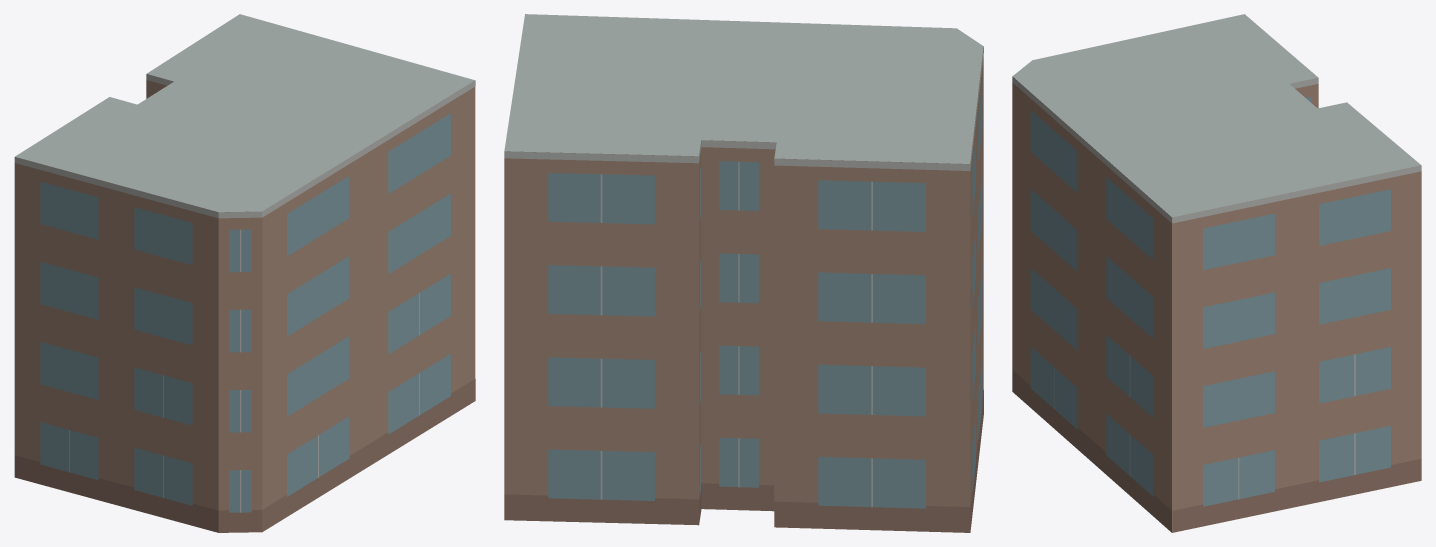
Rendered from survey-upis-32937925.glb.
3 views of the same model, side by side, from view 1: azimuth 30°, elevation 25°; view 2: azimuth 150°, elevation 25°; view 3: azimuth 270°, elevation 25° (orthographic). The views are drawn at different scales.
Parts seen in each view (by area): view 1: survey-upis-32937925.tmp; view 2: survey-upis-32937925.tmp; view 3: survey-upis-32937925.tmp.
Part boxes in pixels (left/top/right/bottom): survey-upis-32937925.tmp: left=14, top=14, right=475, bottom=532; survey-upis-32937925.tmp: left=504, top=14, right=983, bottom=532; survey-upis-32937925.tmp: left=1012, top=14, right=1421, bottom=532.
Bounding box in the file's own units: 17.71 × 12.79 × 15.05.
